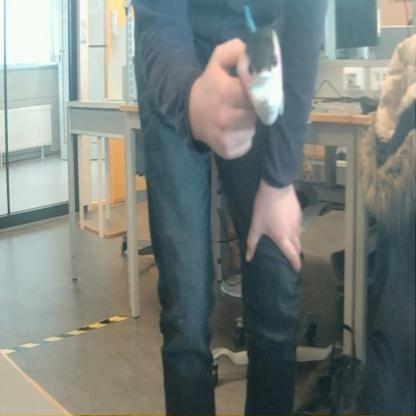rubberfish: (232, 10, 297, 129)
